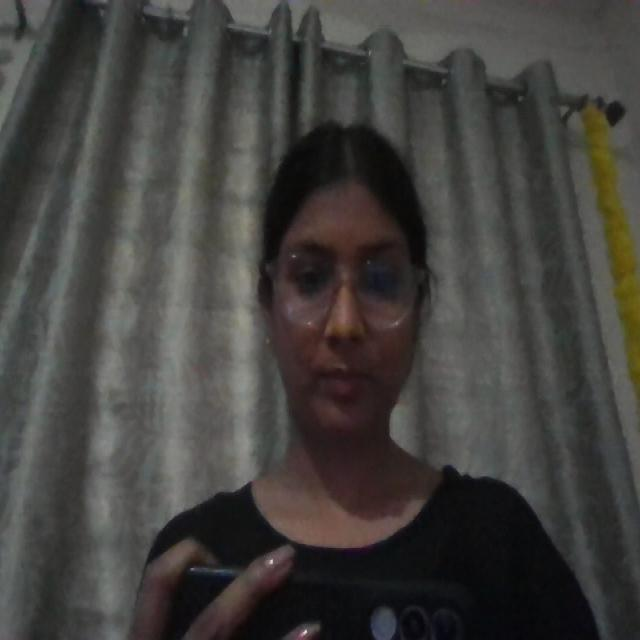phone: (237, 571, 478, 639), (167, 569, 239, 639)
